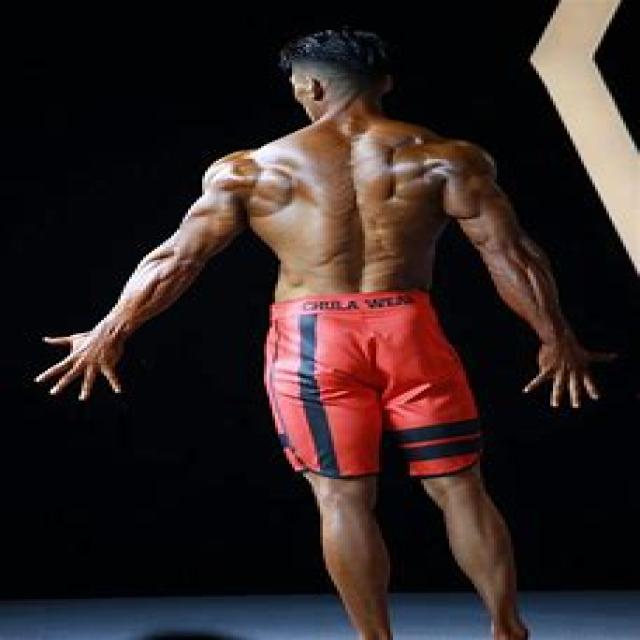stand: (216, 27, 535, 640)
